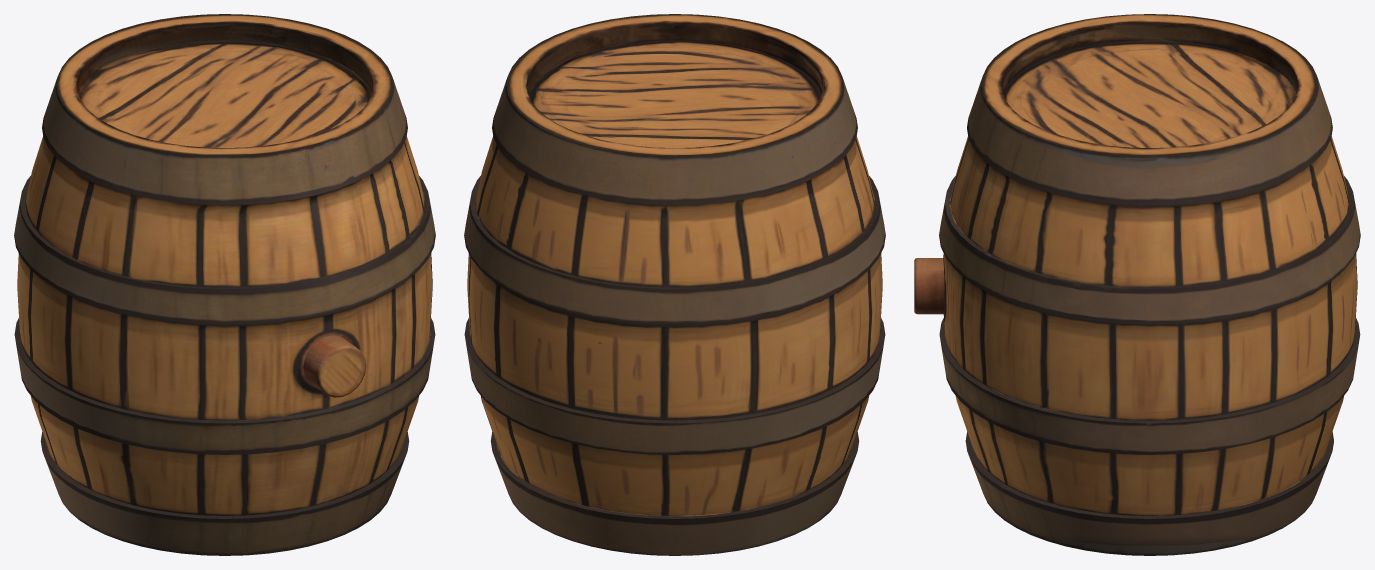
File: Barrel.fbx
3 renders of one model, left to right at view 1: azimuth 30°, elevation 25°; view 2: azimuth 150°, elevation 25°; view 3: azimuth 270°, elevation 25°, orthographic.
Visible parts, largest first — view 1: Barrel; view 2: Barrel; view 3: Barrel.
Part boxes in pixels (bbox=[...]): Barrel: bbox=[14, 14, 435, 555]; Barrel: bbox=[464, 14, 885, 555]; Barrel: bbox=[914, 14, 1360, 555].
Bounding box in the file's own units: 186 × 194 × 197.
1 material, 1 textured.
